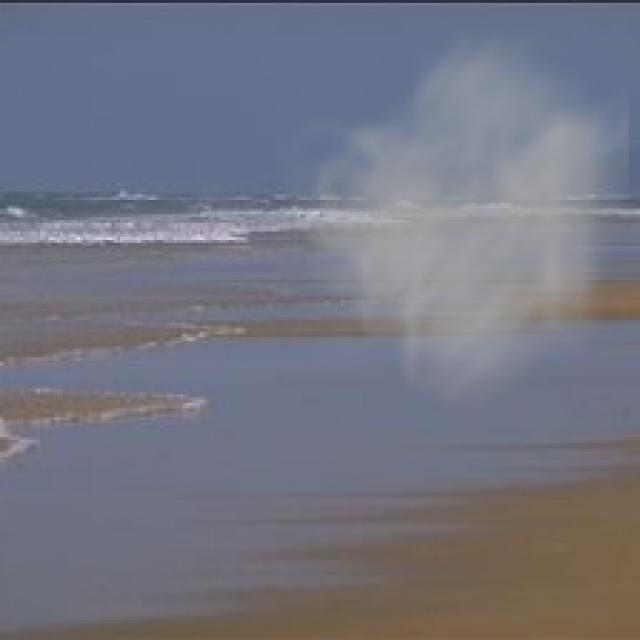smoke: (268, 17, 628, 420)
